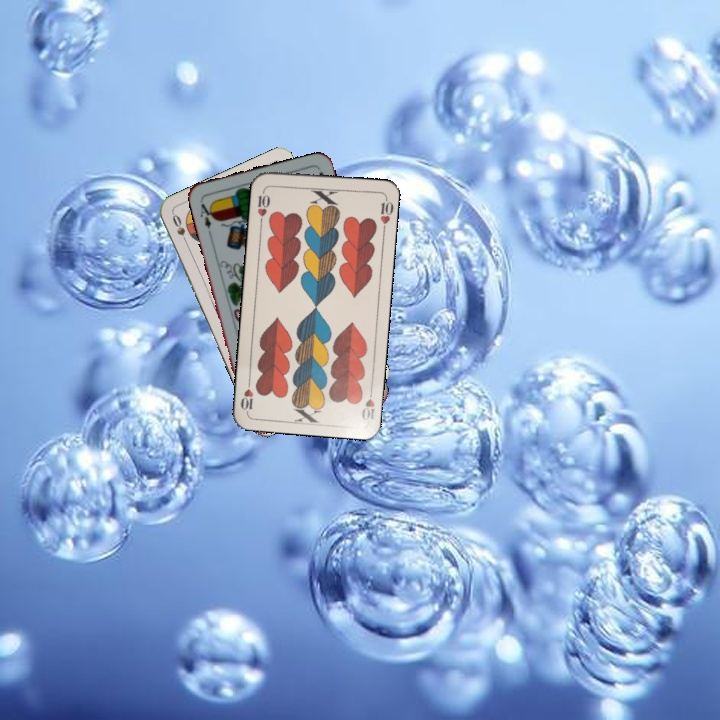EA: (196, 196, 217, 231)
H10: (253, 185, 273, 226), (357, 383, 377, 423)
SO: (168, 210, 191, 249)
